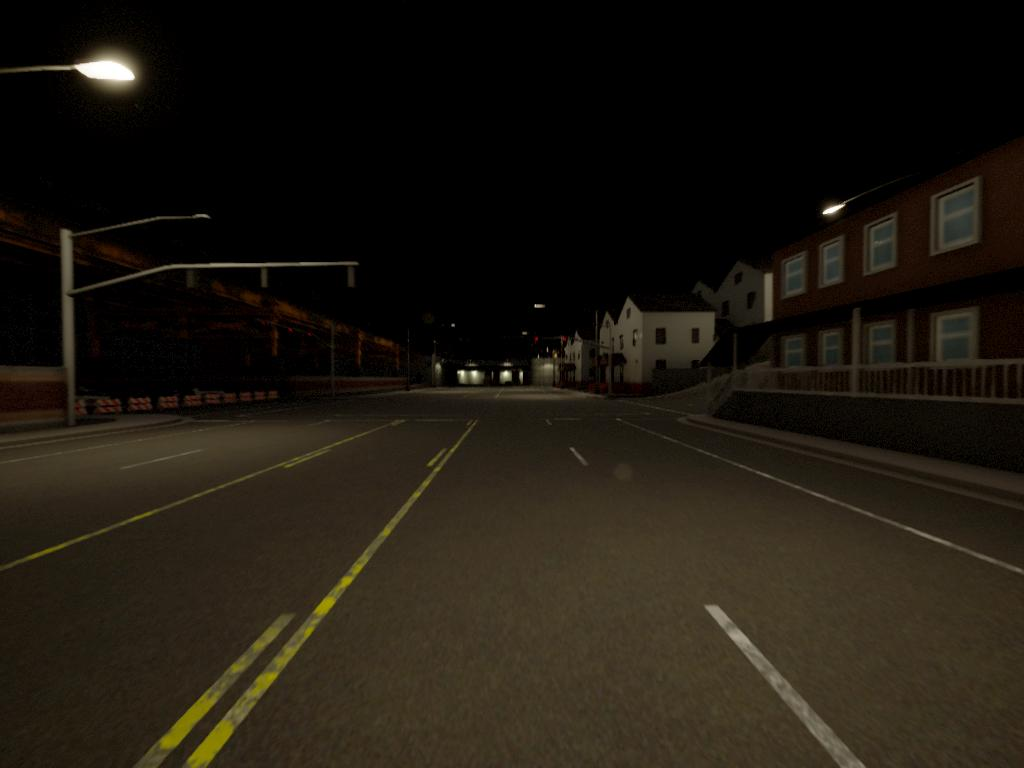traffic_light: (562, 336, 569, 345), (534, 337, 540, 346)
